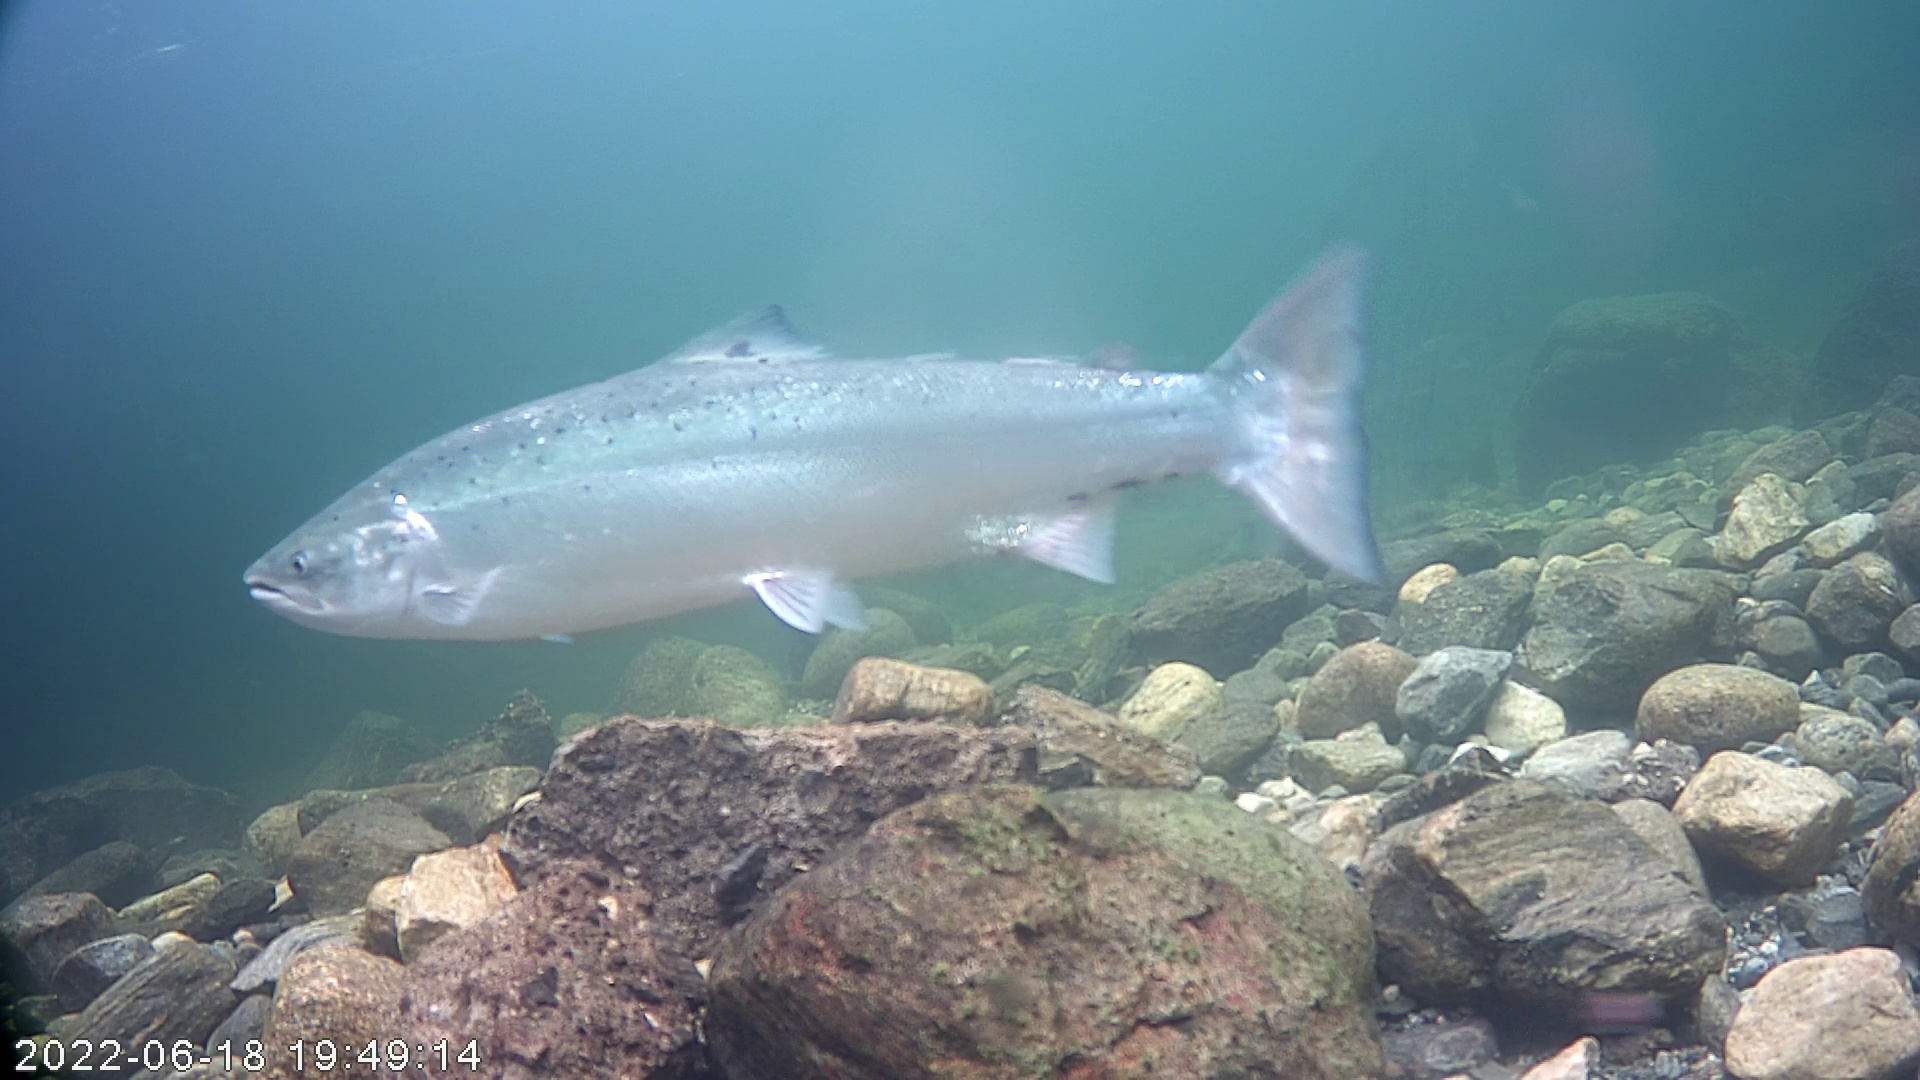salmon: (240, 237, 1378, 645)
